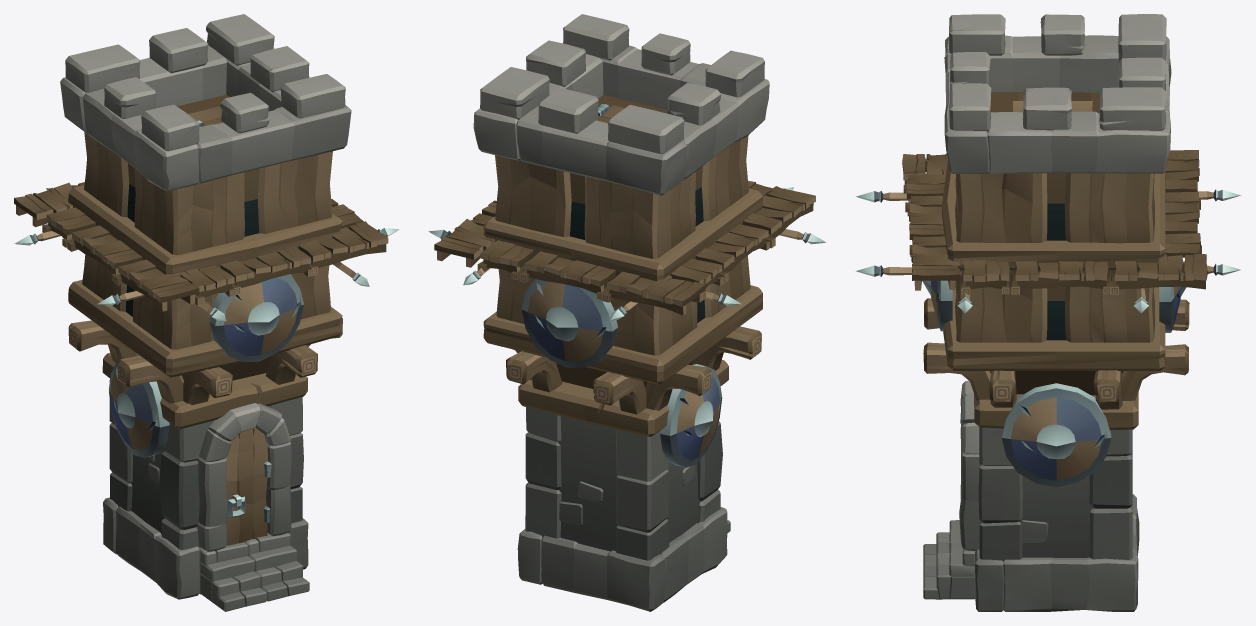
File: Tower.fbx
3 views of the same model, side by side, from view 1: azimuth 30°, elevation 25°; view 2: azimuth 150°, elevation 25°; view 3: azimuth 270°, elevation 25° (orthographic). The views are drawn at different scales.
Visible parts, largest first — view 1: 45__tower_Lv3_door_ha_45__tower_Lv3_door_ha_89_45__tower_Lv3; view 2: 45__tower_Lv3_door_ha_45__tower_Lv3_door_ha_89_45__tower_Lv3; view 3: 45__tower_Lv3_door_ha_45__tower_Lv3_door_ha_89_45__tower_Lv3.
Part boxes in pixels (bbox=[...]): 45__tower_Lv3_door_ha_45__tower_Lv3_door_ha_89_45__tower_Lv3: bbox=[14, 14, 399, 611]; 45__tower_Lv3_door_ha_45__tower_Lv3_door_ha_89_45__tower_Lv3: bbox=[428, 14, 826, 611]; 45__tower_Lv3_door_ha_45__tower_Lv3_door_ha_89_45__tower_Lv3: bbox=[856, 14, 1240, 611].
Bounding box in the file's own units: 7.09 × 10.84 × 7.27.
1 material, 1 textured.
